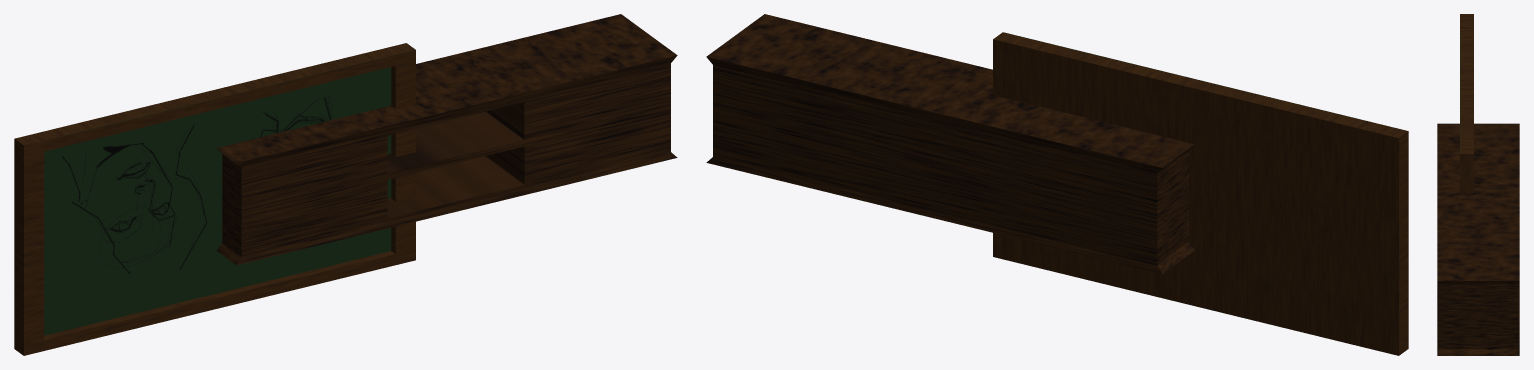
File: TV Stand.fbx
3 views of the same model, side by side, from view 1: azimuth 30°, elevation 25°; view 2: azimuth 150°, elevation 25°; view 3: azimuth 270°, elevation 25° (orthographic). The views are drawn at different scales.
Visible parts, largest first — view 1: Chalkboard, TV_Stand; view 2: TV_Stand, Chalkboard; view 3: TV_Stand, Chalkboard.
Part boxes in pixels (x1,y1,x2,y2): Chalkboard: (14,43,415,355); TV_Stand: (216,14,677,265); TV_Stand: (706,14,1194,273); Chalkboard: (993,32,1408,355); TV_Stand: (1437,123,1519,355); Chalkboard: (1460,14,1473,193).
Bounding box in the file's own units: 1304 × 411 × 200.
